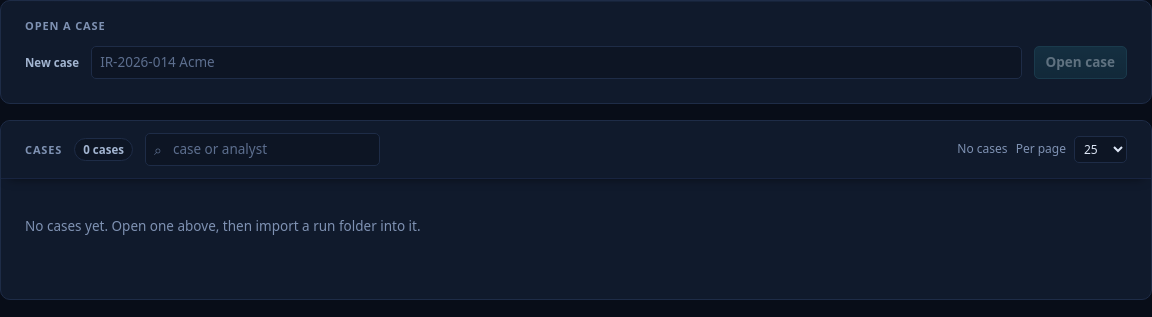
Test: creating a case posts the name and reloads the list
Expected: the text "No cases yet" is shown, [25, 217, 421, 235]
Type "IR-new" into the field labelled "New case" at (556, 62), box [91, 46, 1022, 79]
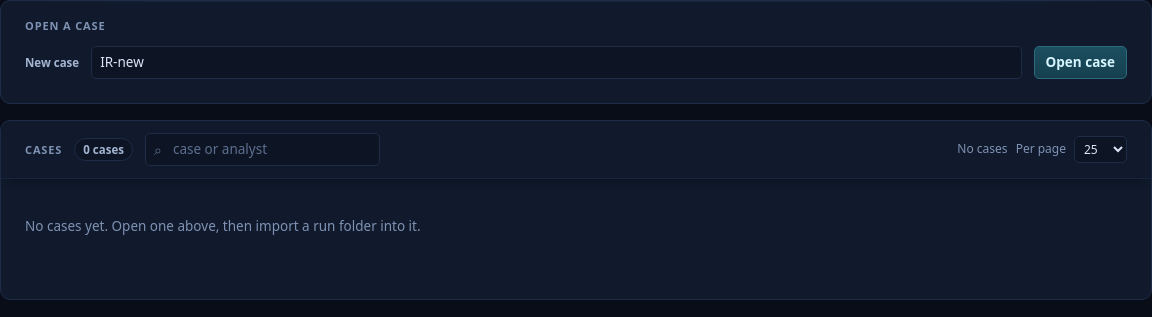
Click the button "Open case" at (1080, 62), box [1034, 46, 1127, 79]
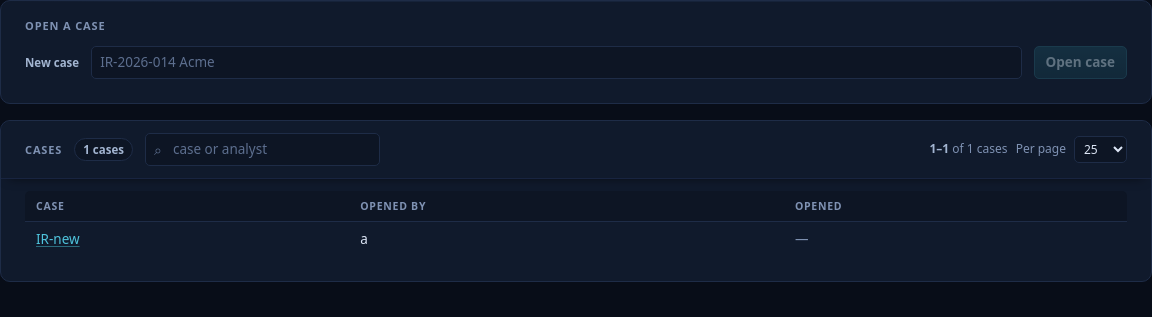
Expected: the link "IR-new" is shown, [36, 230, 80, 248]
